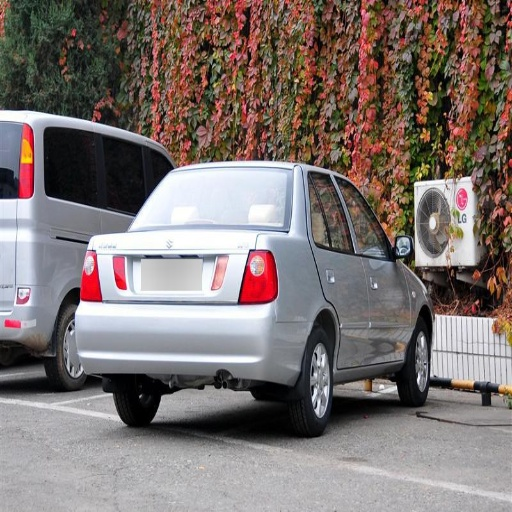back_bumper: (76, 301, 309, 382)
back_right_door: (308, 171, 368, 370)
tailgate: (97, 223, 245, 302)
trunk: (209, 228, 283, 305)
